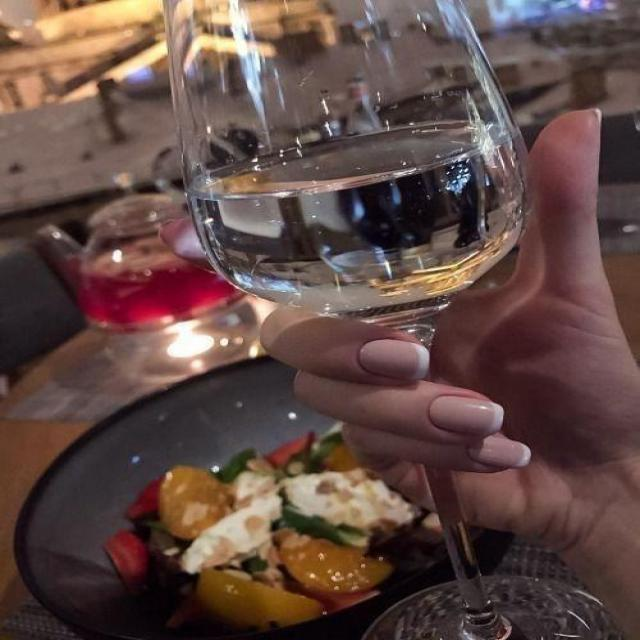glass-wine: (155, 3, 567, 638)
